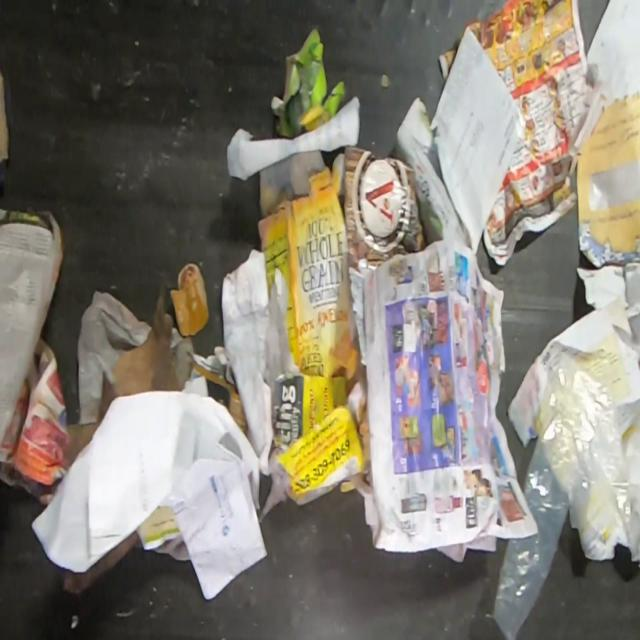cardboard: (258, 150, 362, 382), (330, 147, 427, 276), (169, 264, 210, 338)
soft_plastic: (492, 350, 634, 640)
